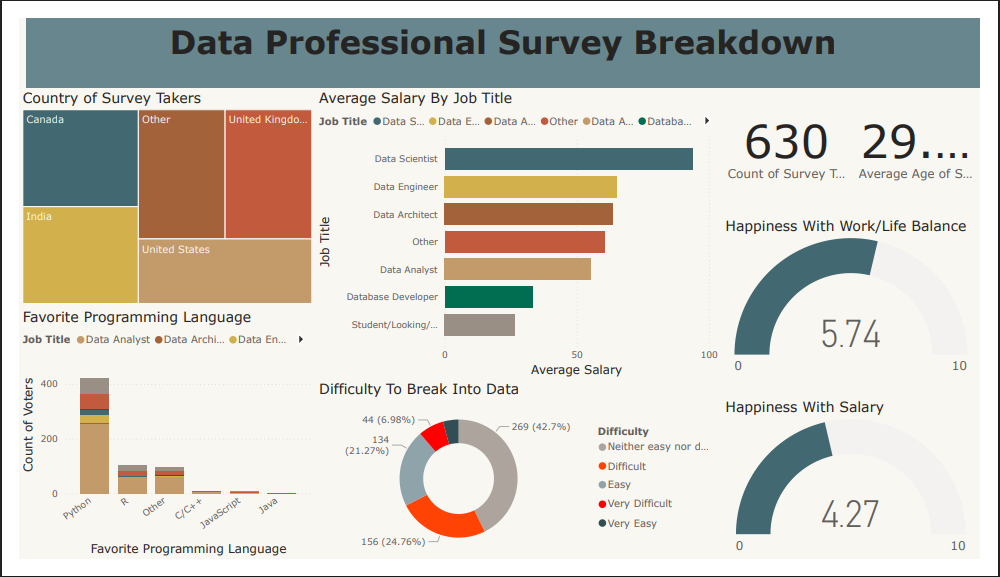

This screenshot's page, from the dashboard's own definition file:
{"tool":"powerbi","page":{"name":"Page 1","canvas":[1280,720],"ordinal":0},"visuals":[{"type":"textbox","box":[10.1,0,1270.1,93.6],"z":0},{"type":"card","fields":{"Values":["Count(Data Professional Survey.Unique ID)"]},"box":[935.6,94.1,173,151.2],"z":1000},{"type":"card","fields":{"Values":["Avg(Data Professional Survey.Q10 - Current Age)"]},"box":[1108.7,94.1,171.3,151.2],"z":2000},{"type":"barChart","title":"Average Salary By Job Title","fields":{"Category":["Data Professional Survey.Q1 - Which Title Best Fits your Current Role?.1"],"Y":["Avg(Data Professional Survey.Average Salary.1)"],"Series":["Data Professional Survey.Q1 - Which Title Best Fits your Current Role?.1"]},"box":[394.8,94.1,540.9,388],"z":3000},{"type":"columnChart","title":"Favorite Programming Language","fields":{"Category":["Data Professional Survey.Q5 - Favorite Programming Language.1"],"Y":["CountNonNull(Data Professional Survey.Unique ID)"],"Series":["Data Professional Survey.Q1 - Which Title Best Fits your Current Role?.1"]},"box":[0,384.7,394.8,336],"z":4000},{"type":"treemap","title":"Country of Survey Takers","fields":{"Group":["Data Professional Survey.Q11 - Which Country do you live in?.1"],"Values":["Count(Data Professional Survey.Q11 - Which Country do you live in?.1)"]},"box":[0,94.1,394.8,290.6],"z":5000},{"type":"gauge","title":"Happiness With Salary","fields":{"Y":["Avg(Data Professional Survey.Q6 - How Happy are you in your Current Position with the following? (Salary))"],"MinValue":["Min(Data Professional Survey.Q6 - How Happy are you in your Current Position with the following? (Salary))1"],"MaxValue":["Max(Data Professional Survey.Q6 - How Happy are you in your Current Position with the following? (Salary))2"]},"box":[935.6,505.6,344.4,215],"z":6000},{"type":"gauge","title":"Happiness With Work/Life Balance","fields":{"Y":["Avg(Data Professional Survey.Q6 - How Happy are you in your Current Position with the following? (Work/Life Balance))"],"MinValue":["Min(Data Professional Survey.Q6 - How Happy are you in your Current Position with the following? (Work/Life Balance))1"],"MaxValue":["Max(Data Professional Survey.Q6 - How Happy are you in your Current Position with the following? (Work/Life Balance))2"]},"box":[935.6,265.4,344.4,216.7],"z":7000},{"type":"donutChart","title":"Difficulty To Break Into Data","fields":{"Category":["Data Professional Survey.Q7 - How difficult was it for you to break into Data?"],"Y":["CountNonNull(Data Professional Survey.Q7 - How difficult was it for you to break into Data?)"]},"box":[394.8,482.1,540.9,238.5],"z":8000}]}

Visuals, with their boxes in screenshot pixels (x1, y1, x2, y2), scaled from the page's 1280x720 canvas onto the 1000x577 screenshot:
textbox: 8,0,999,75
card - Count(Data Professional Survey.Unique ID): 731,75,866,197
card - Avg(Data Professional Survey.Q10 - Current Age): 866,75,999,197
"Average Salary By Job Title" barChart: 308,75,731,386
"Favorite Programming Language" columnChart: 0,308,308,576
"Country of Survey Takers" treemap: 0,75,308,308
"Happiness With Salary" gauge: 731,405,999,576
"Happiness With Work/Life Balance" gauge: 731,213,999,386
"Difficulty To Break Into Data" donutChart: 308,386,731,576
